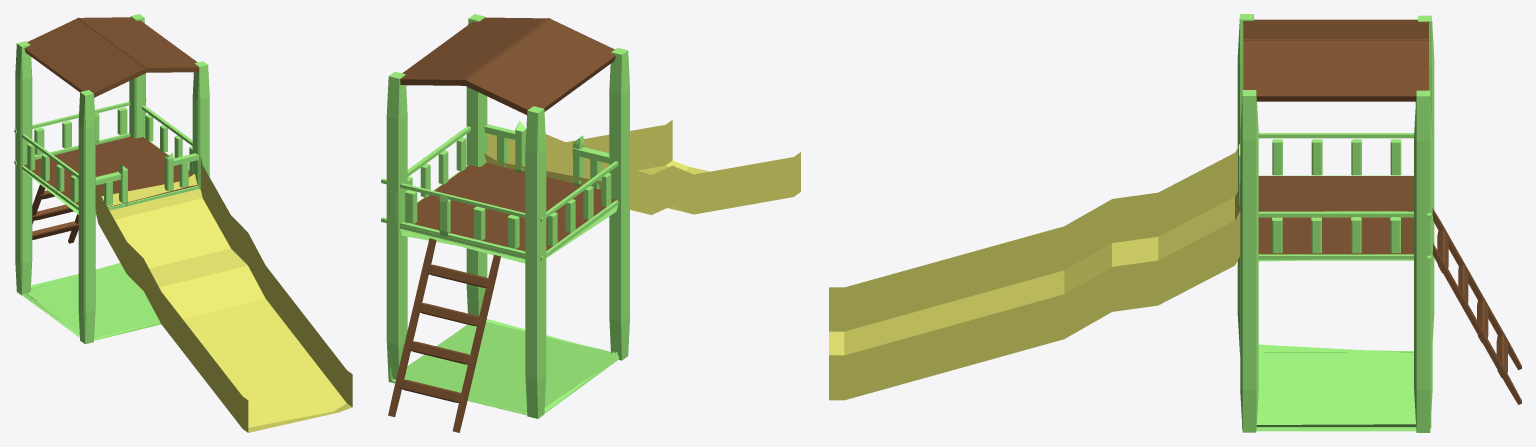
File: swing.fbx
The picture shows the model from 3 angles, left to right: view 1: azimuth 30°, elevation 25°; view 2: azimuth 150°, elevation 25°; view 3: azimuth 270°, elevation 25°; orthographic projection. The views are drawn at different scales.
Parts seen in each view (by area): view 1: floor; view 2: floor; view 3: floor.
Part boxes in pixels (x1,y1,x2,y2): floor: (14, 14, 352, 432); floor: (381, 14, 800, 432); floor: (829, 14, 1521, 432).
Bounding box in the file's own units: 222 × 419 × 746.
